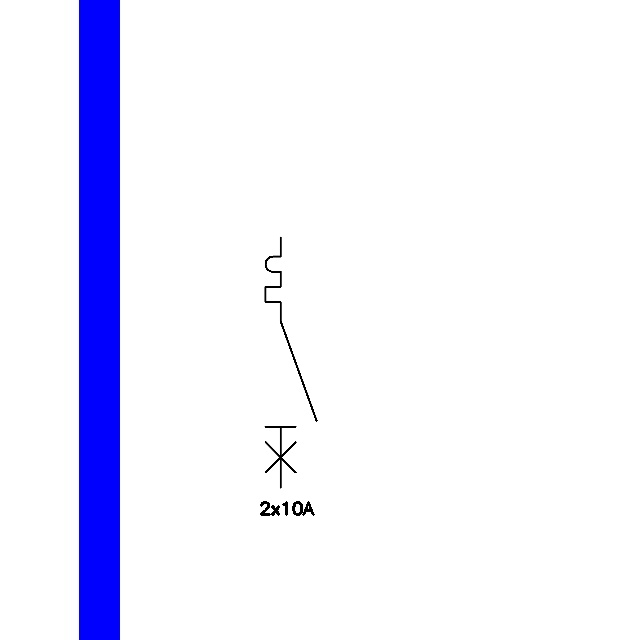interruptor_termomagnetico: (259, 231, 323, 493)
